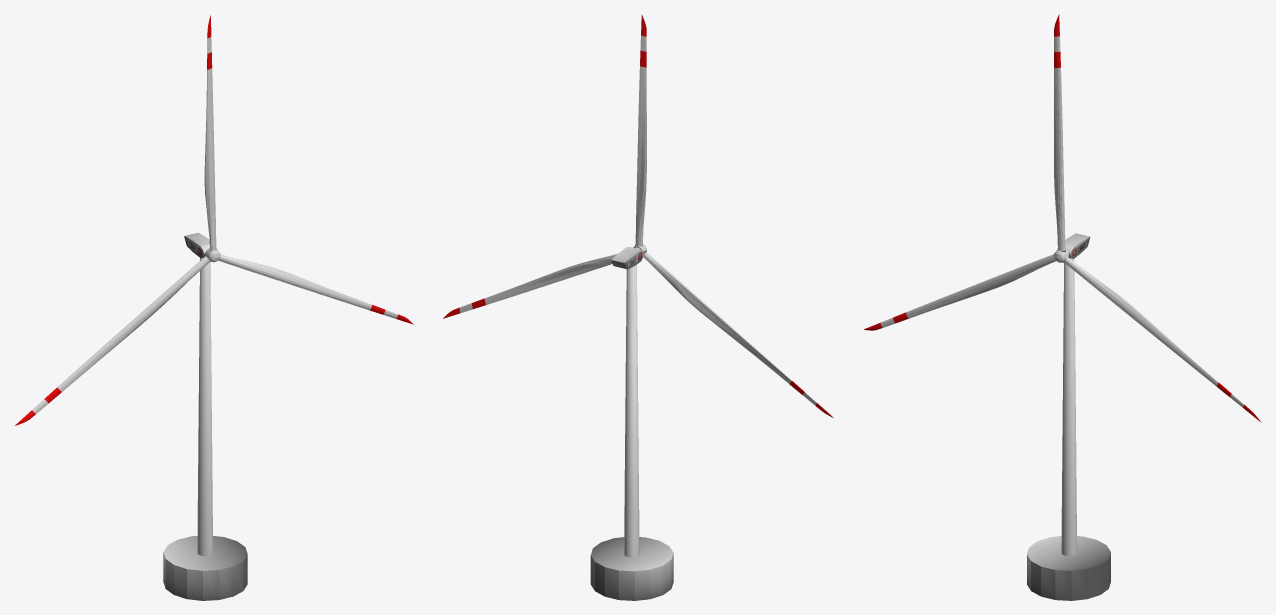
The model's file is 风电机模型.glb.
3 views of the same model, side by side, from view 1: azimuth 30°, elevation 25°; view 2: azimuth 150°, elevation 25°; view 3: azimuth 330°, elevation 25° (orthographic).
Visible parts, largest first — view 1: o105_3, o130_1; view 2: o105_3, o130_1; view 3: o105_3, o130_1.
Part boxes in pixels (<box>): o105_3: <box>163,232,247,600</box>; o130_1: <box>15,15,413,425</box>; o105_3: <box>590,247,673,600</box>; o130_1: <box>443,14,833,417</box>; o105_3: <box>1027,233,1110,600</box>; o130_1: <box>864,14,1261,422</box>.
Bounding box in the file's own units: 133 × 183 × 23.94.
3 materials, 3 textured.
